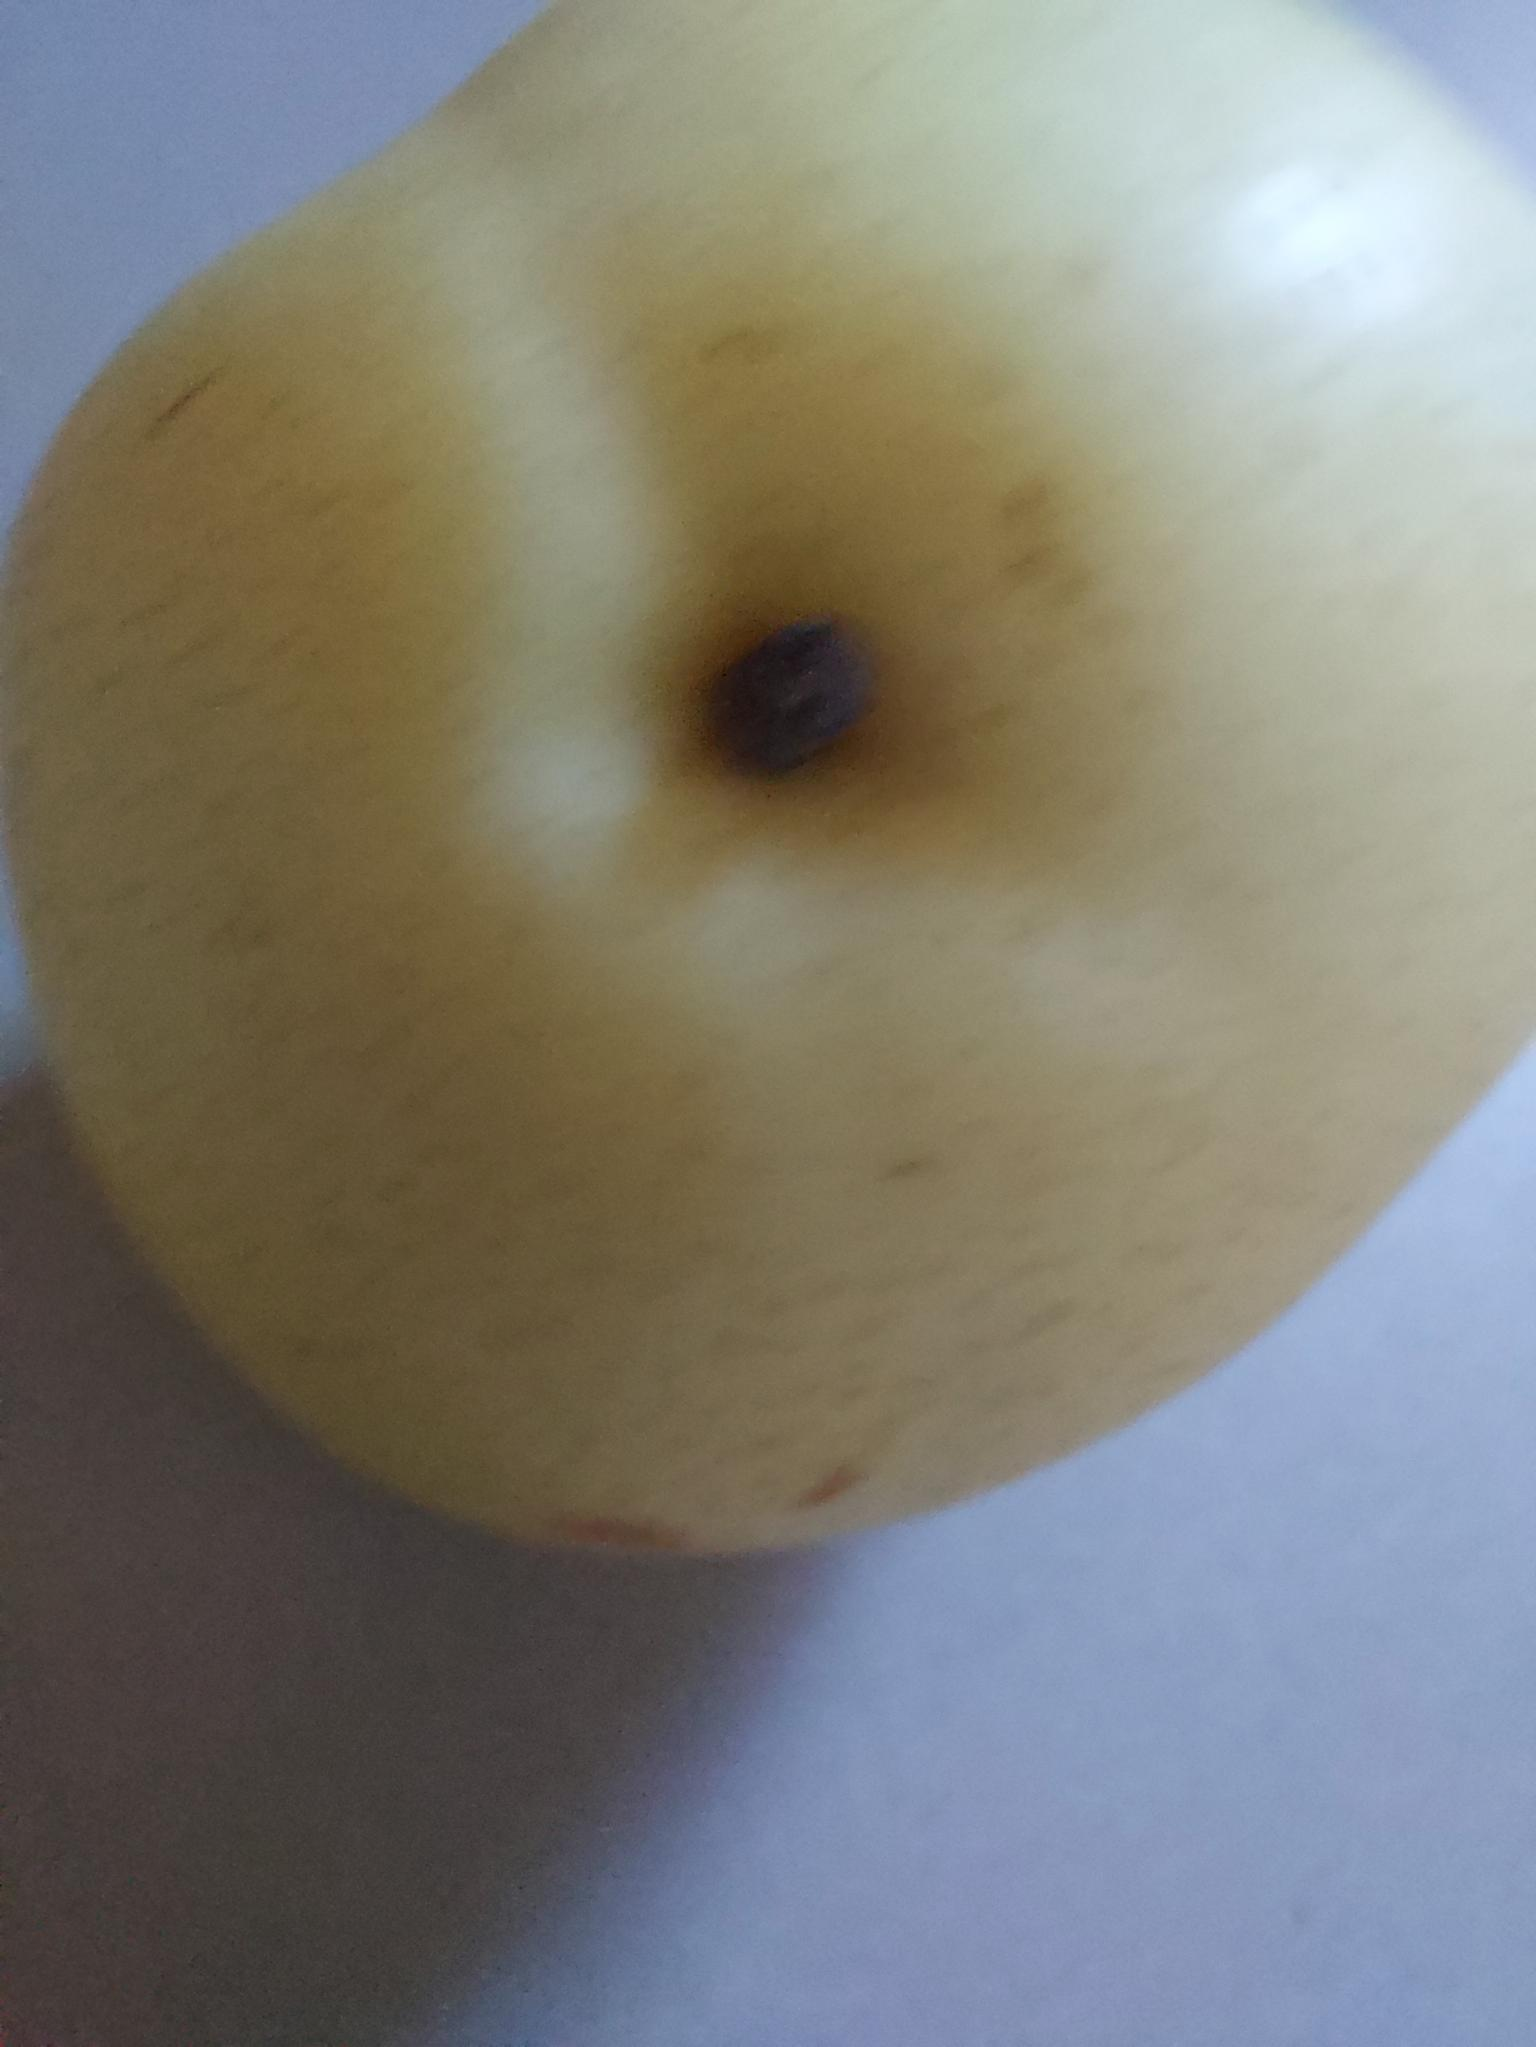Good Pear: (19, 0, 1536, 1670)
